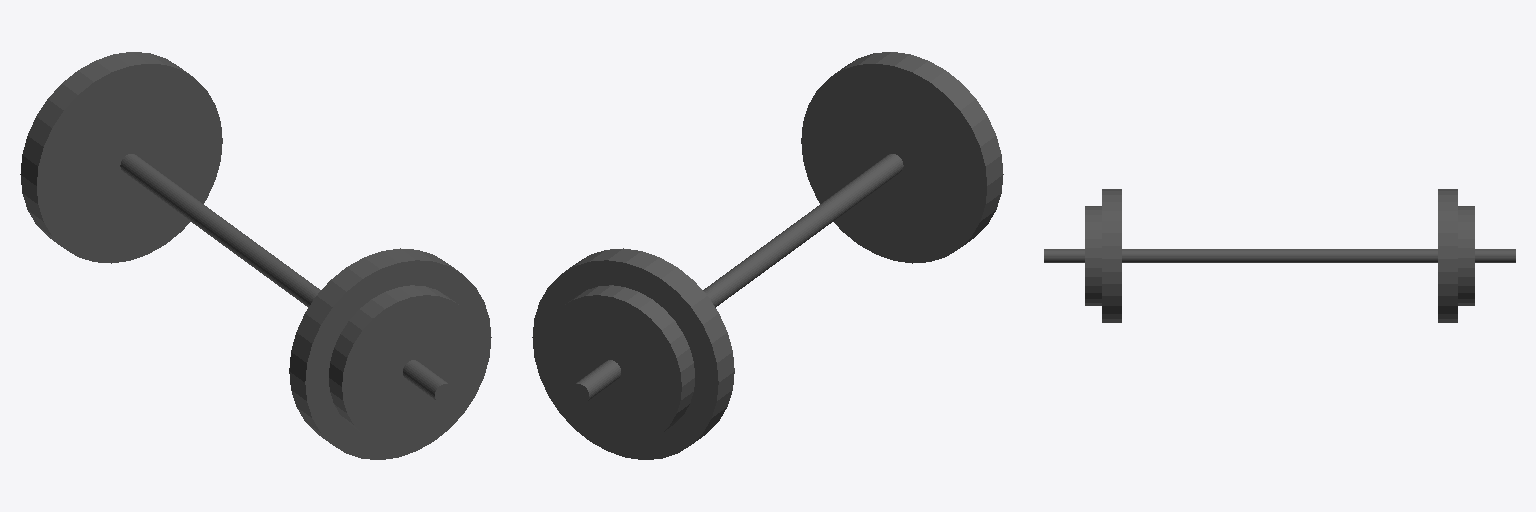
The robot description file, URDF, robot "object_3d":
<?xml version="1.0" encoding="utf-8"?>
<robot name="object_3d">

    <link name="obj_com">
        <inertial>
            <origin xyz="0.0 0.0 0.0" rpy=".0 .0 .0" />
            <mass value="32.0" />
            <inertia ixx="1.0" ixy=".0" ixz=".0" iyy="0.1" iyz=".0" izz="1.0" />
        </inertial>
        <visual>
            <origin xyz="0 0 0" rpy="0 0 0" />
            <geometry>
                <mesh filename="object_3d/visual/barbell.dae"/>
            </geometry>
            <material name="">
                <color rgba="0.4 0.4 0.4 1.0" />
            </material>
        </visual>
    </link>

    <joint name="virt_stick_01" type="fixed">
        <parent link="obj_com"/>
        <child link="p_01"/>
        <origin xyz="0 -0.3 0" rpy="-1.57079632679 0 -1.57079632679"/>
    </joint>
    <link name="p_01"></link>

    <joint name="virt_stick_02" type="fixed">
        <parent link="obj_com"/>
        <child link="p_02"/>
        <origin xyz="0 0.3 0" rpy="1.57079632679 0 1.57079632679"/>
    </joint>
    <link name="p_02"></link>

</robot>

--- Facts derived from the render (not from the file) ---
3 views of the same robot in one strip: view 1: azimuth 30°, elevation 25°; view 2: azimuth 150°, elevation 25°; view 3: azimuth 270°, elevation 25° (orthographic).
Robot: object_3d — 3 links, 2 joints (2 fixed); root link obj_com; default pose: every joint at zero.
Visible links, largest first — view 1: obj_com; view 2: obj_com; view 3: obj_com.
Boxes of the visible links, x1,y1,x2,y2 form: obj_com: [20, 52, 491, 459]; obj_com: [532, 52, 1003, 459]; obj_com: [1044, 189, 1515, 322].
Size in the robot's own frame: 0.4 by 1.4 by 0.4 metres.
1 mesh visuals loaded from 1 distinct referenced files (1 Collada DAE).